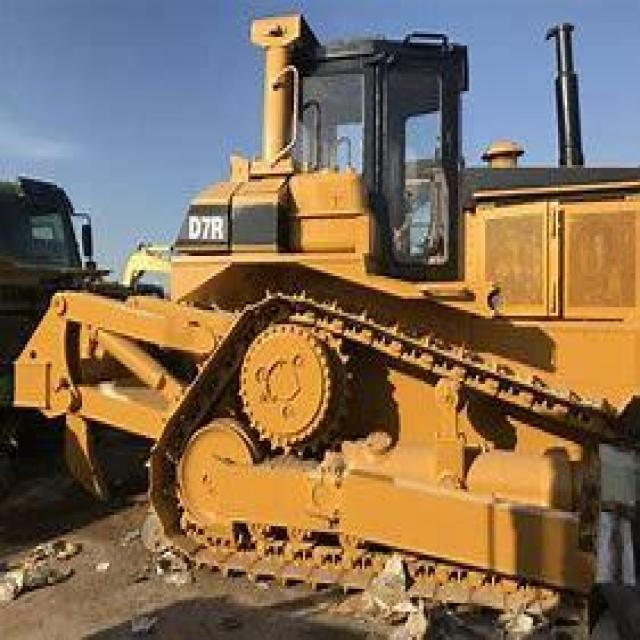Bulldozer: (20, 6, 638, 608)
